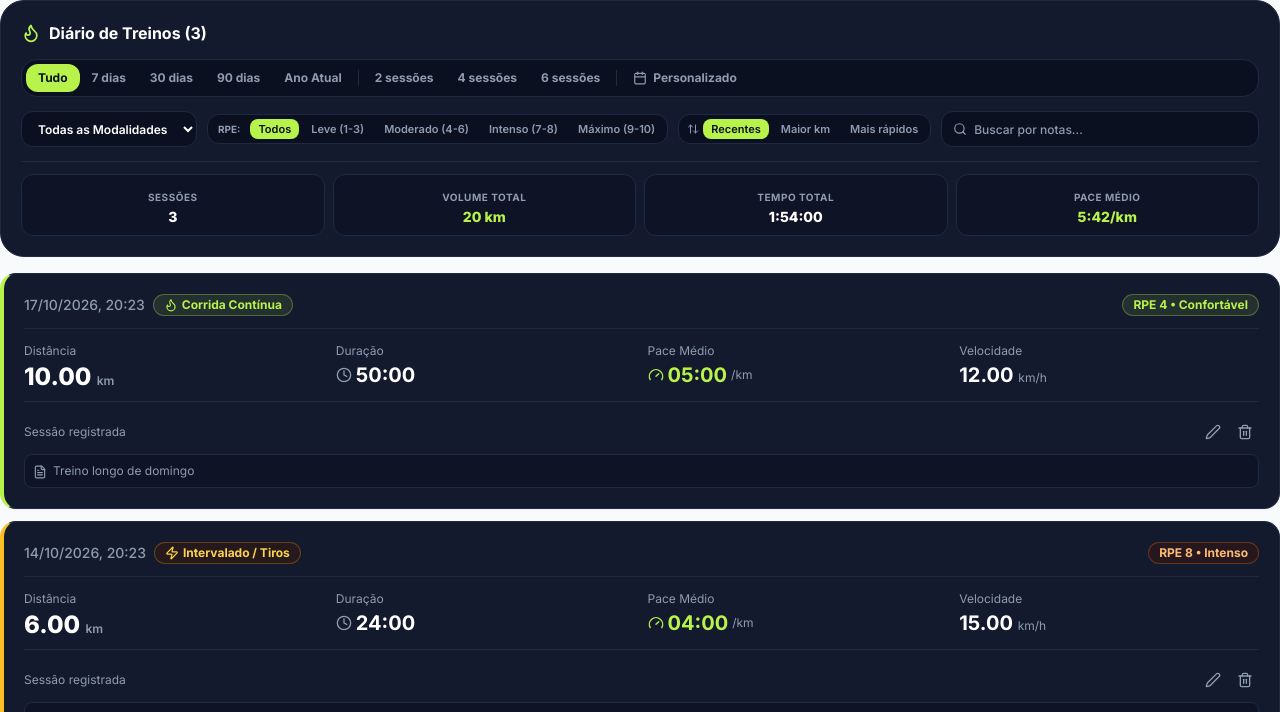
Test: TrainingList Component - Filtros Avançados › permite limpar todos os filtros simultaneamente e restaurar a lista completa
The width and height of the screenshot is (1280, 712).
// Aplica um filtro de RPE Leve (1-3)
Click the button "Leve (1-3)" at (338, 129), box [303,119,372,139]
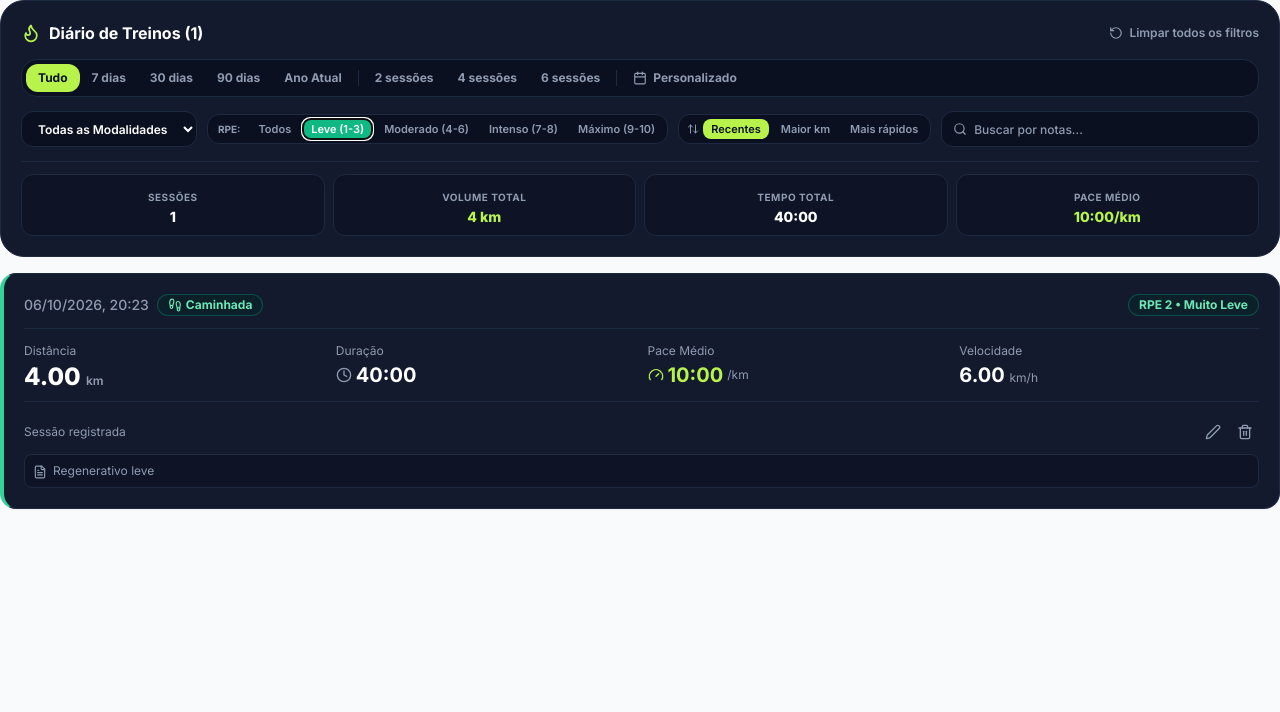
Expected: the heading "Diário de Treinos (1)" is shown, [49,21,203,45]
Click the button "Limpar todos os filtros" at (1184, 33), box [1109,25,1259,41]
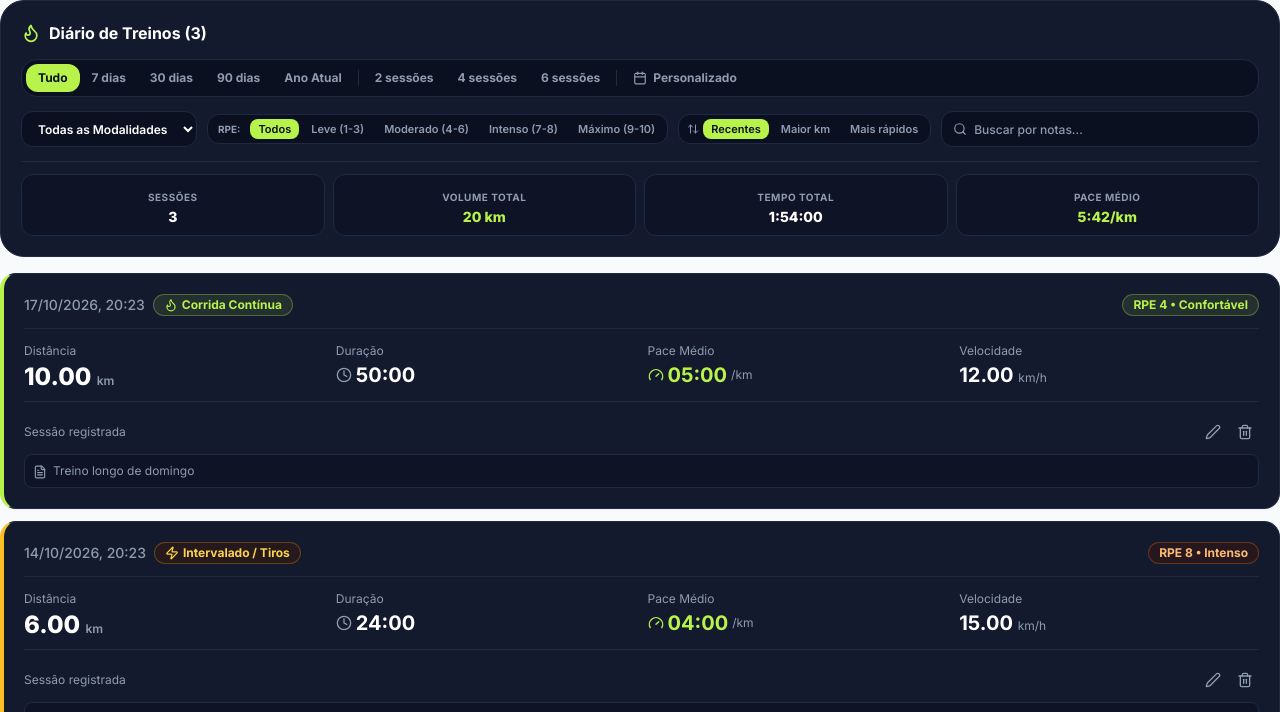
Expected: the heading "Diário de Treinos (3)" is shown, [49,21,207,45]
Expected: the text "20 km" is shown, [463,208,506,225]
